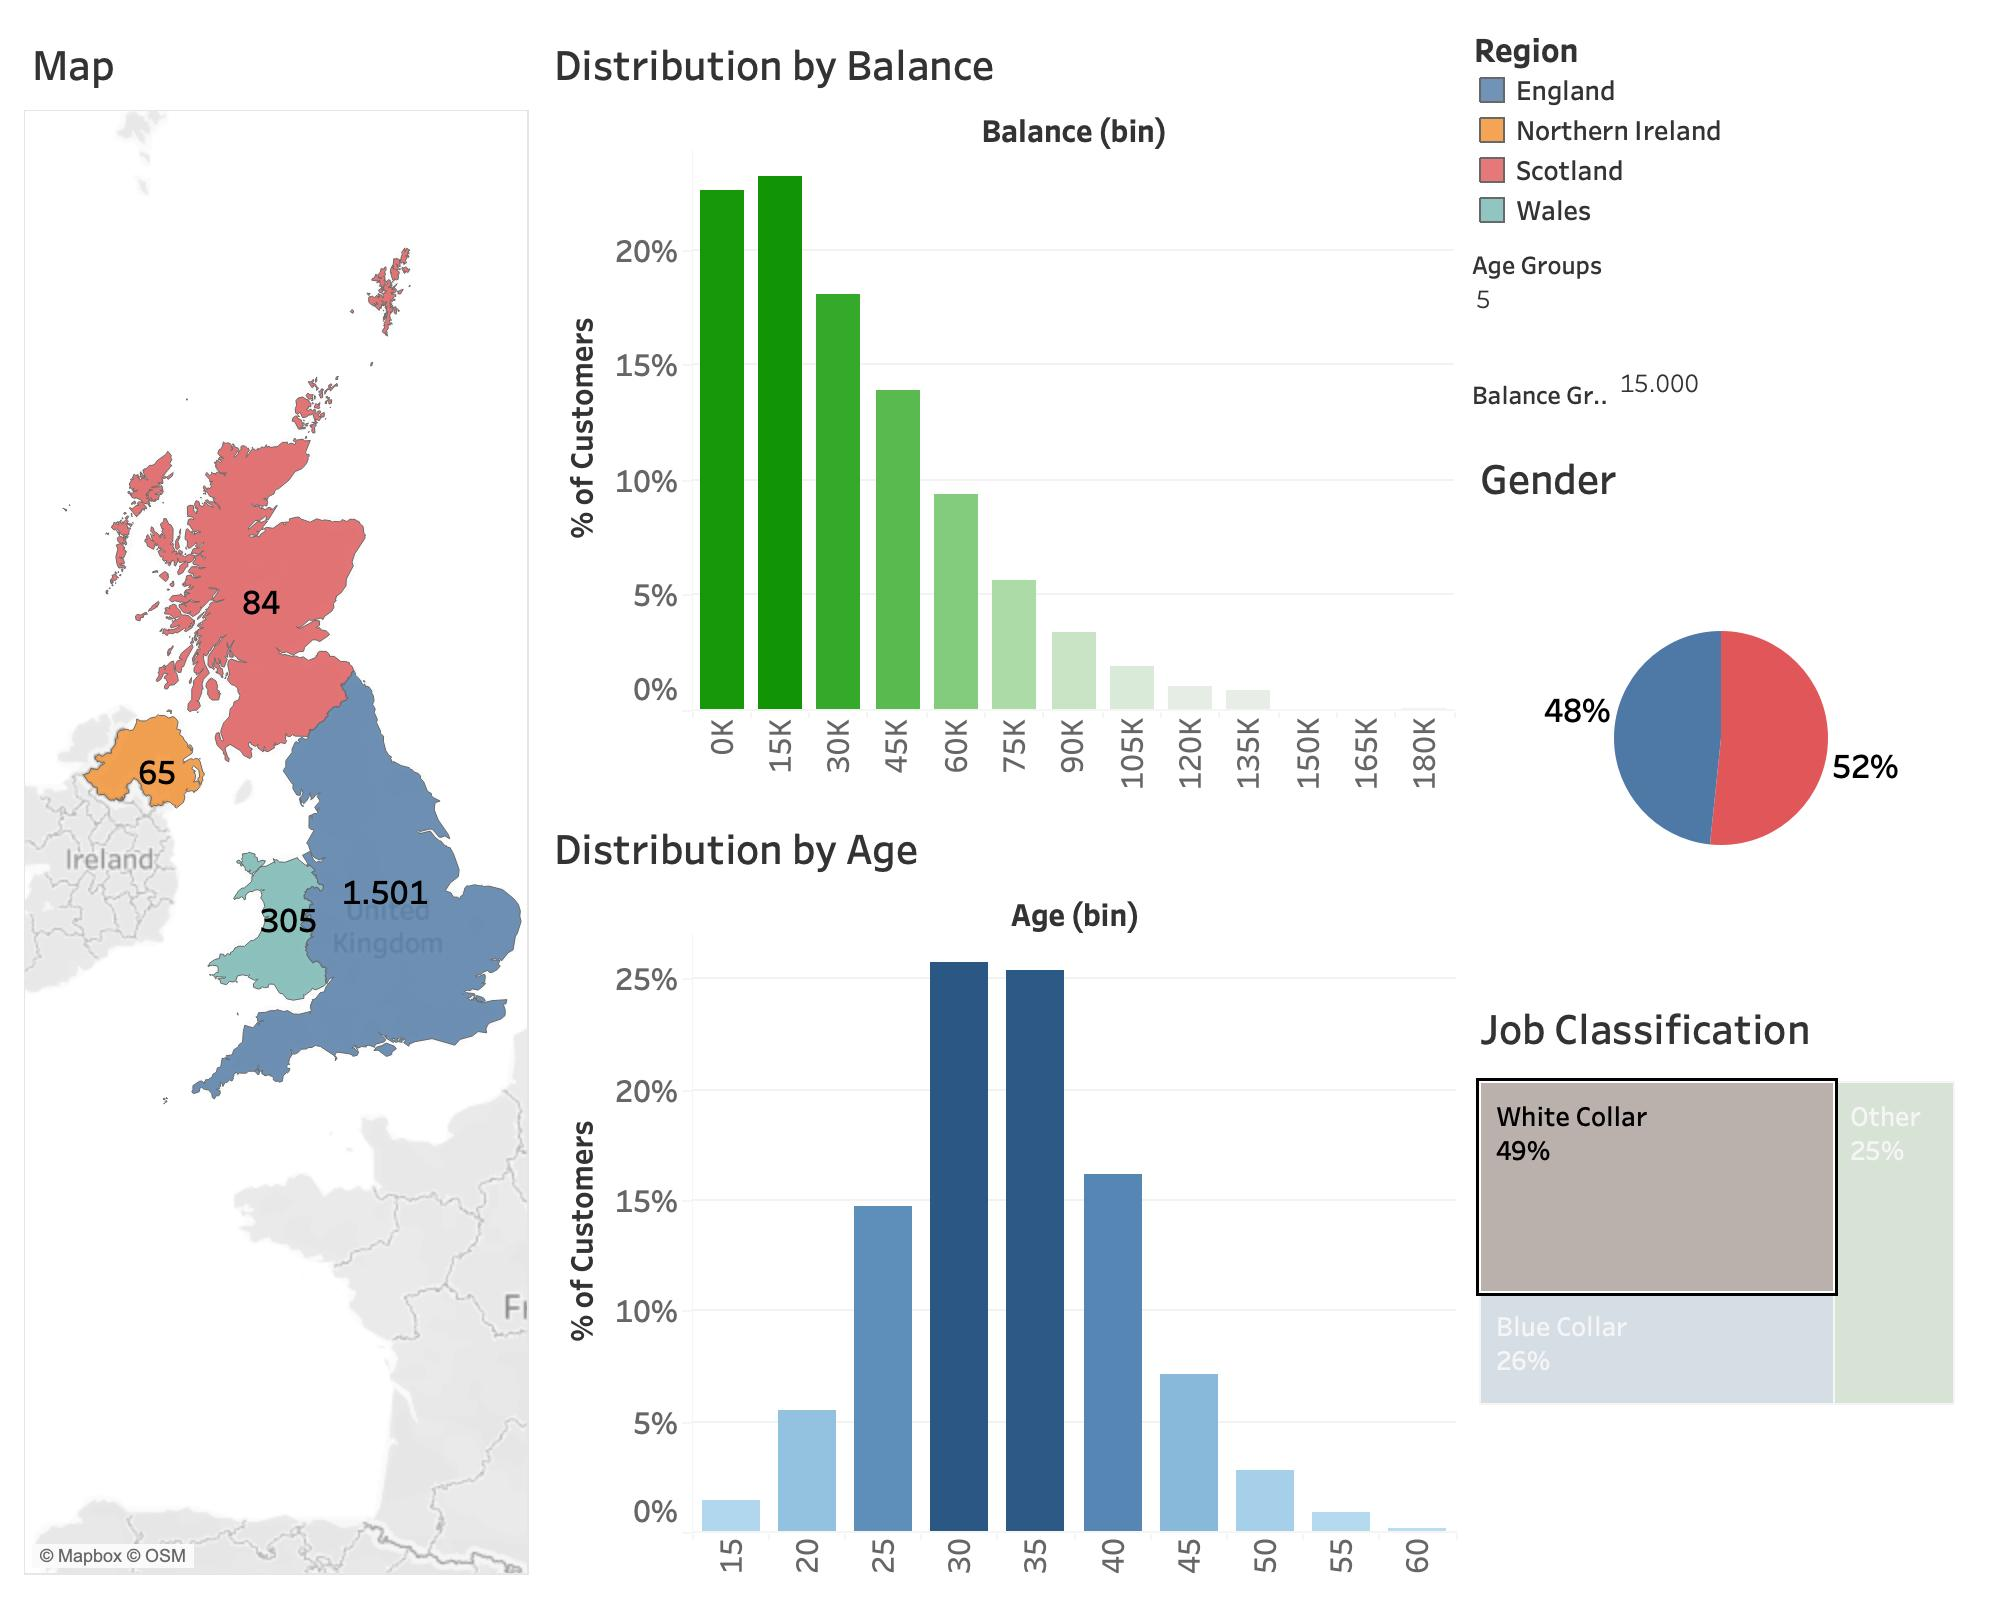

This screenshot's page, from the dashboard's own definition file:
{"tool":"tableau","page":{"name":"Segmantation Dashboard","canvas":[1000,800],"ordinal":0},"visuals":[{"type":"worksheet","title":"Map","mark":"Multipolygon","box":[8,8,260.9,784]},{"type":"worksheet","title":"Distribution by Balance","mark":"Automatic","rows":["P1-UK-Bank-Customers.csv_50A2118407A04433882B4902672BB830"],"cols":["Balance (bin)"],"box":[268.9,8,463.1,392]},{"type":"legend","title":"Map","param":"[federated.1xokakk0bjwohp14gr0zz0ztyh6j].[none:Region:nk]","box":[732,8,260,111]},{"type":"parameter","param":"[Parameters].[Parameter 2]","box":[732,119,260,60]},{"type":"parameter","param":"[Parameters].[Parameter 1]","box":[732,179,260,36]},{"type":"worksheet","title":"Gender","mark":"Pie","box":[732,215,260,275]},{"type":"worksheet","title":"Distribution by Age","mark":"Bar","rows":["P1-UK-Bank-Customers.csv_50A2118407A04433882B4902672BB830"],"cols":["Age (bin)"],"box":[268.9,400,463.1,392]},{"type":"worksheet","title":"Job Classification","mark":"Automatic","box":[732,490,260,270]}]}

Visuals, with their boxes in screenshot pixels (x1, y1, x2, y2), scaled from the page's 1000x800 canvas onto the 2000x1600 screenshot:
"Map" worksheet (Multipolygon marks): rect(16, 16, 538, 1584)
"Distribution by Balance" worksheet: rect(538, 16, 1464, 800)
"Map" legend: rect(1464, 16, 1984, 238)
parameter: rect(1464, 238, 1984, 358)
parameter: rect(1464, 358, 1984, 430)
"Gender" worksheet (Pie marks): rect(1464, 430, 1984, 980)
"Distribution by Age" worksheet (Bar marks): rect(538, 800, 1464, 1584)
"Job Classification" worksheet: rect(1464, 980, 1984, 1520)
